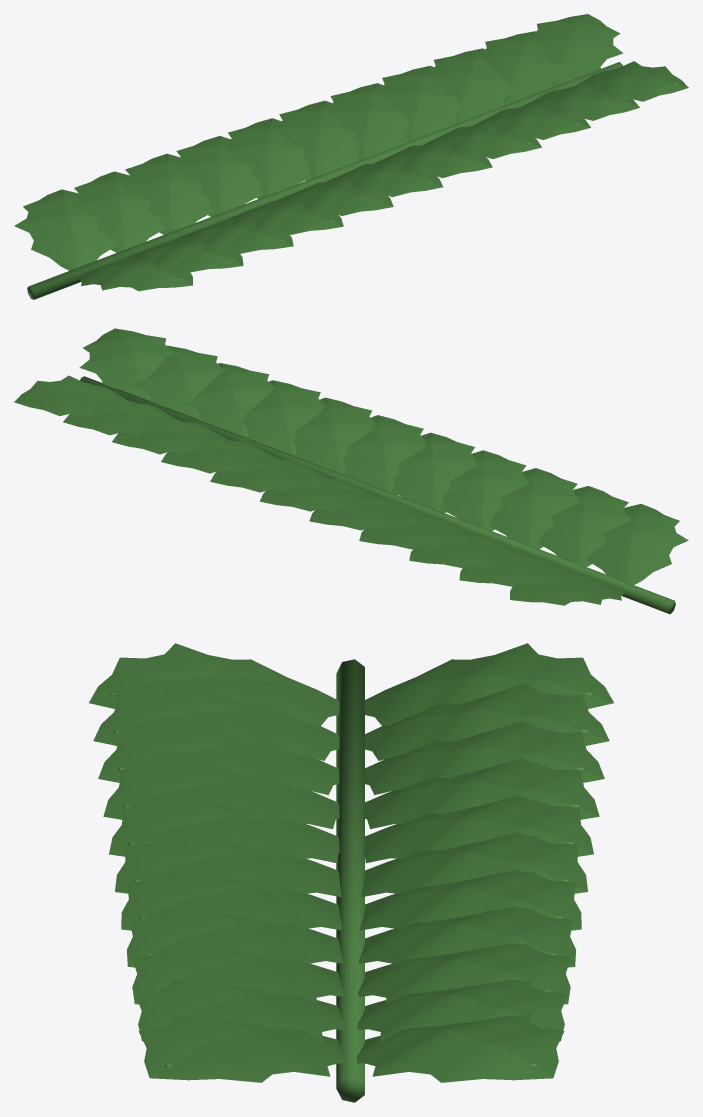
Rendered from Cilantro.glb.
3 renders of one model, top to bottom at view 1: azimuth 30°, elevation 25°; view 2: azimuth 150°, elevation 25°; view 3: azimuth 270°, elevation 25°, orthographic. The views are drawn at different scales.
Parts seen in each view (by area): view 1: Cilantro; view 2: Cilantro; view 3: Cilantro.
Part boxes in pixels (left/top/right/bottom): Cilantro: left=14, top=14, right=688, bottom=299; Cilantro: left=14, top=328, right=688, bottom=614; Cilantro: left=89, top=643, right=613, bottom=1102.
Size of what is drawn, in the model's own units: 0.1038 by 0.0171 by 0.0385.
